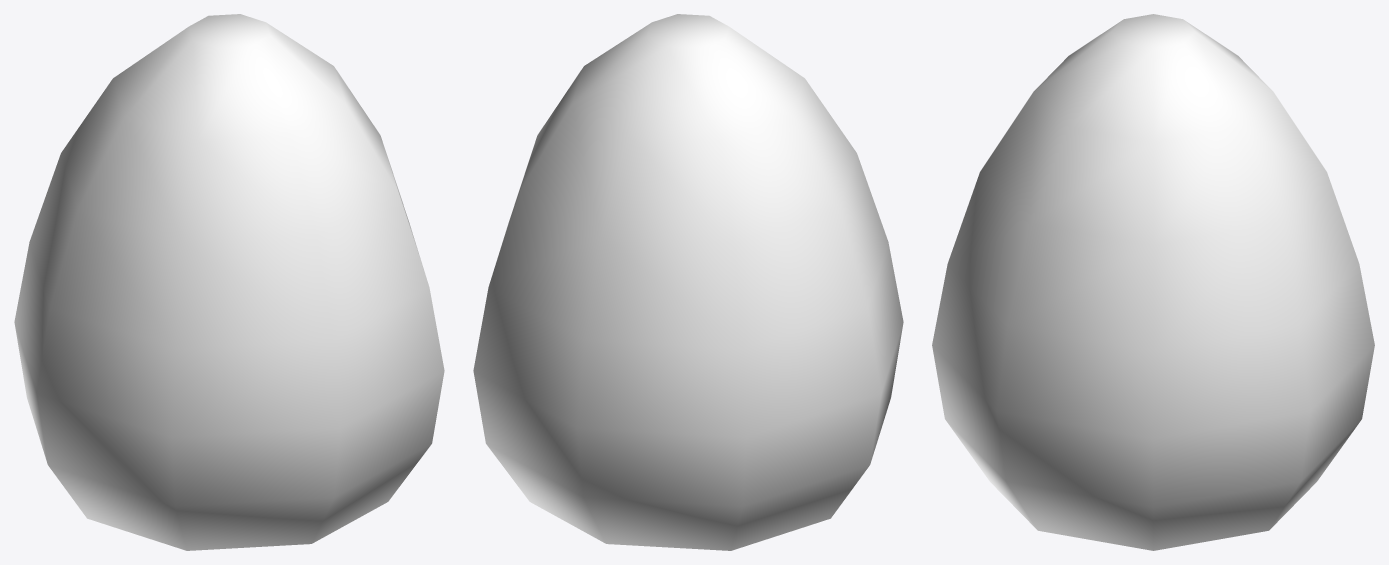
The model's file is egg.FBX.
3 views of the same model, side by side, from view 1: azimuth 30°, elevation 25°; view 2: azimuth 150°, elevation 25°; view 3: azimuth 270°, elevation 25° (orthographic).
Parts seen in each view (by area): view 1: Egg; view 2: Egg; view 3: Egg.
Part boxes in pixels (left/top/right/bottom): Egg: left=14, top=14, right=444, bottom=550; Egg: left=473, top=14, right=903, bottom=550; Egg: left=932, top=14, right=1374, bottom=550.
Bounding box in the file's own units: 39.35 × 46.83 × 39.35.
